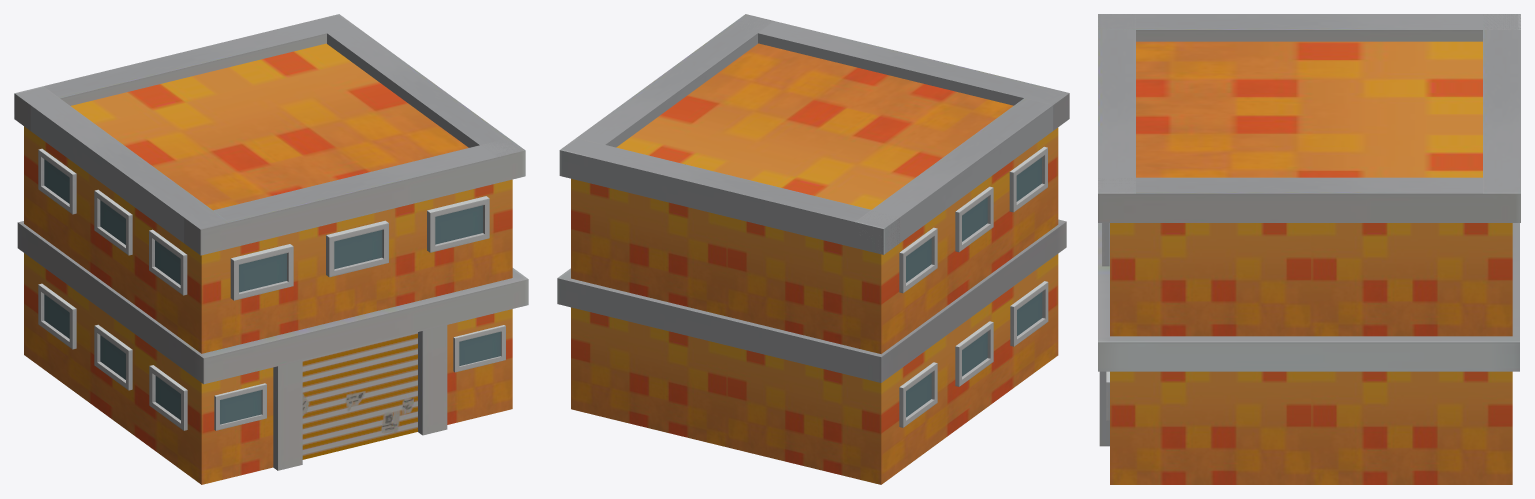
File: nha_cam.fbx
The picture shows the model from 3 angles, left to right: view 1: azimuth 30°, elevation 25°; view 2: azimuth 150°, elevation 25°; view 3: azimuth 270°, elevation 25°; orthographic projection. The views are drawn at different scales.
Visible parts, largest first — view 1: nha_cam; view 2: nha_cam; view 3: nha_cam.
Boxes of the visible parts, x1,y1,x2,y2 form: nha_cam: [14, 14, 528, 484]; nha_cam: [557, 14, 1069, 484]; nha_cam: [1098, 14, 1520, 484].
Bounding box in the file's own units: 1768 × 1343 × 1741.
